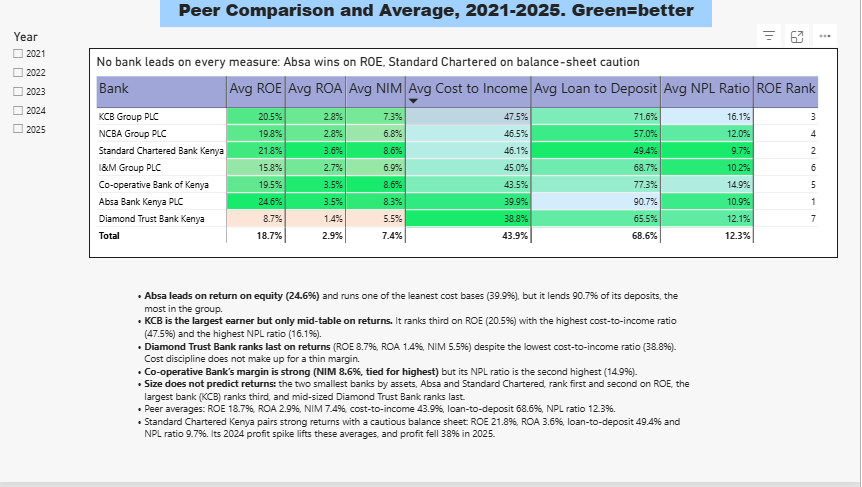

The page's visual inventory and layout, read from the dashboard file:
{"tool":"powerbi","page":{"name":"Comparison","canvas":[1920,1080],"ordinal":4},"visuals":[{"type":"textbox","box":[359,0,1230.9,64.7],"z":0},{"type":"pivotTable","title":"No bank leads on every measure: Absa wins on ROE, Standard Chartered on balance-sheet caution","fields":{"Rows":["Working data.Bank"],"Values":["Working data.Avg ROE","Working data.Avg ROA","Working data.Avg NIM","Working data.Avg Cost to Income","Working data.Avg Loan to Deposit","Working data.Avg NPL Ratio","Working data.ROE Rank"]},"box":[200.7,111.5,1670.2,468.3],"z":1000},{"type":"slicer","fields":{"Values":["Working data.Year"]},"box":[24.5,69.1,142.7,276.5],"z":2000},{"type":"textbox","box":[292.1,648.9,1255.5,339],"z":3000}]}

Visuals, with their boxes in screenshot pixels (x1, y1, x2, y2), scaled from the page's 1920x1080 canvas onto the 862x487 screenshot:
textbox: (x1=161, y1=0, x2=714, y2=29)
"No bank leads on every measure: Absa wins on ROE, Standard Chartered on balance-sheet caution" pivotTable: (x1=90, y1=50, x2=840, y2=261)
slicer - Working data.Year: (x1=11, y1=31, x2=75, y2=156)
textbox: (x1=131, y1=293, x2=695, y2=445)
